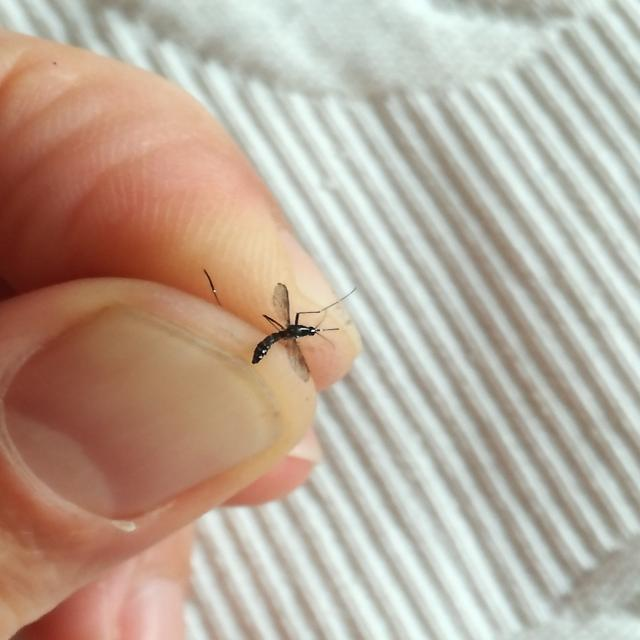albopictus: (245, 276, 361, 378)
